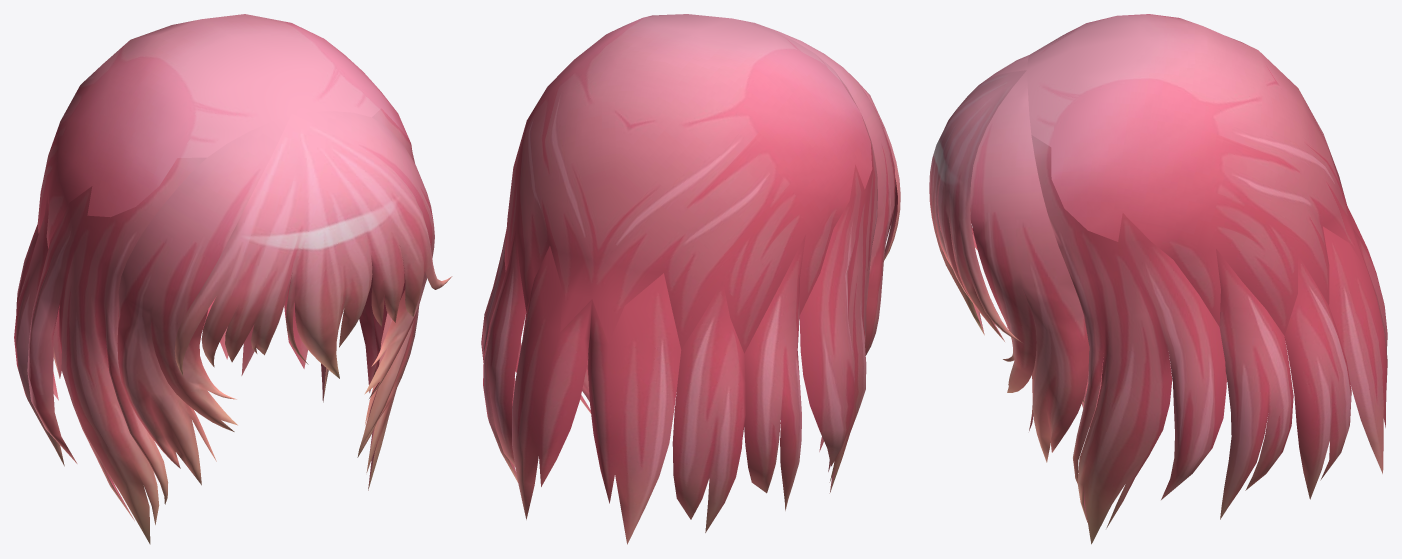
File: hair.obj
3 views of the same model, side by side, from view 1: azimuth 30°, elevation 25°; view 2: azimuth 150°, elevation 25°; view 3: azimuth 270°, elevation 25° (orthographic).
Visible parts, largest first — view 1: Material11_茨木華扇.012; view 2: Material11_茨木華扇.012; view 3: Material11_茨木華扇.012.
Part boxes in pixels (left/top/right/bottom): Material11_茨木華扇.012: left=14, top=14, right=452, bottom=544; Material11_茨木華扇.012: left=481, top=14, right=900, bottom=544; Material11_茨木華扇.012: left=929, top=14, right=1387, bottom=544.
Bounding box in the file's own units: 0.26 × 0.3159 × 0.288.
